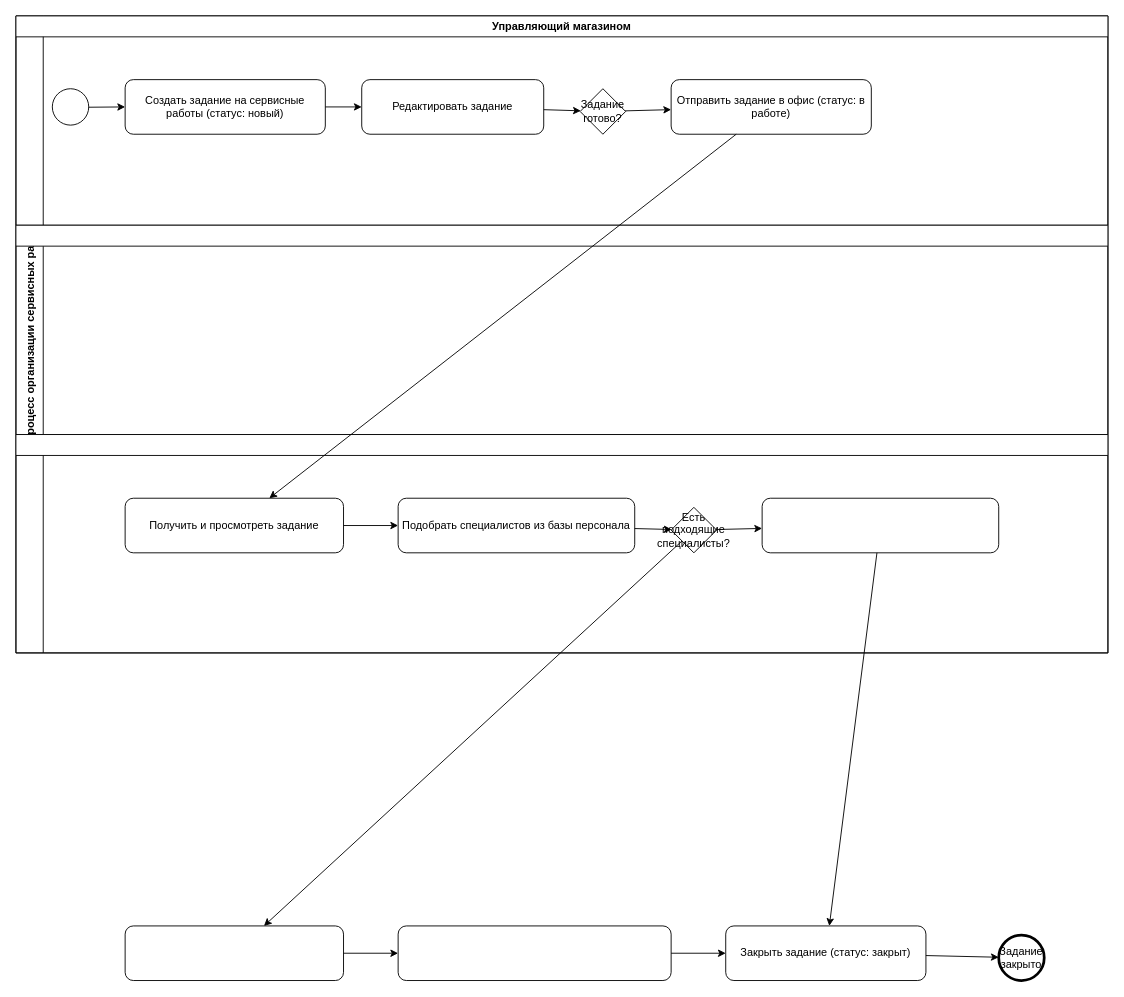
This 1124x997 diagram has some shape labels left out. Each missing label, with the box of its shape:
HR-специалист: (15, 434, 1108, 653)
Возникла потребность в сервисных работах: (51, 88, 89, 125)
Назначить специалистов (статус: выполнен): (761, 497, 999, 553)
Подобрать и назначить специалистов: (397, 925, 671, 981)
Получить заявку на подбор: (124, 925, 344, 981)
Управляющий офисом: (15, 224, 1108, 435)
